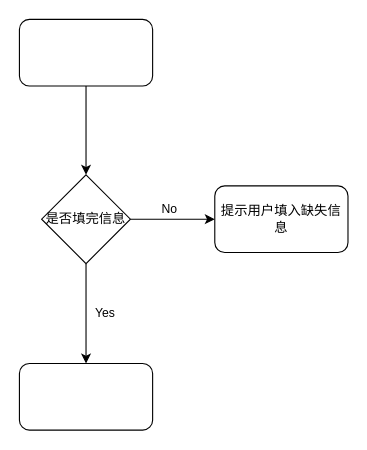
This 367x450 diagram has some shape labels left out. The shapes that lost their labels are listed below. From the top down, each one's box as (x1, y1, x2, y2) in pixels, then its label:
(18, 18, 153, 86): 点击保存按钮
(18, 362, 153, 430): 保存到数据库
